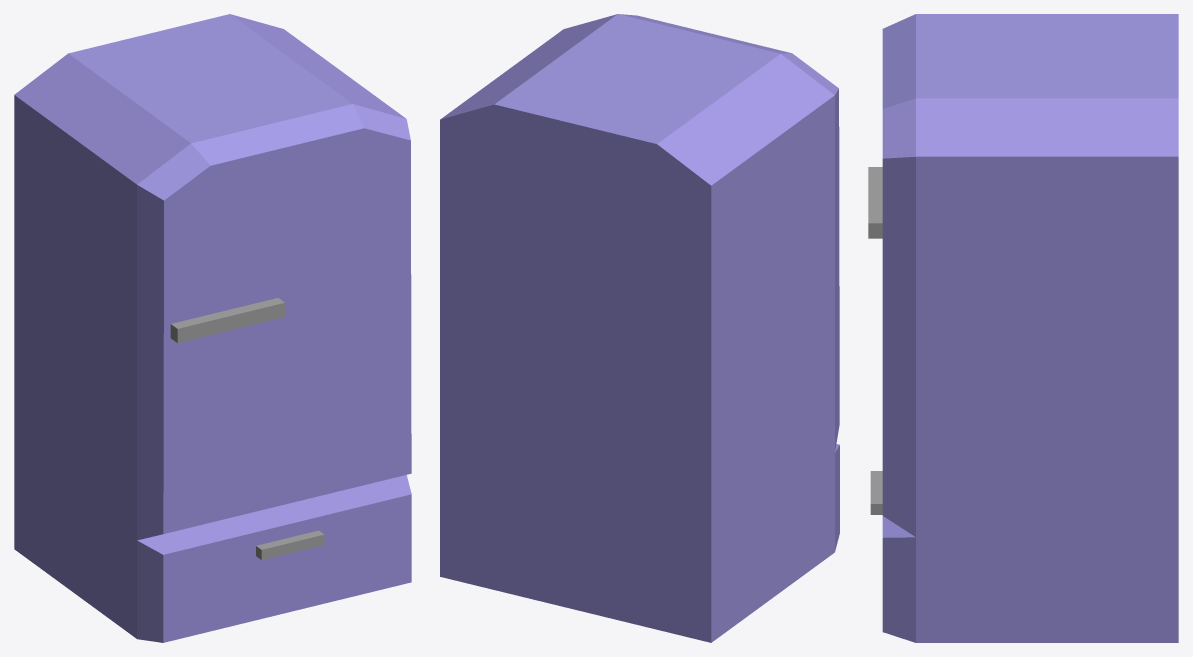
File: Fridge.fbx
3 views of the same model, side by side, from view 1: azimuth 30°, elevation 25°; view 2: azimuth 150°, elevation 25°; view 3: azimuth 270°, elevation 25° (orthographic). The views are drawn at different scales.
Parts seen in each view (by area): view 1: Cube.013, Cube.012; view 2: Cube.013, Cube.012; view 3: Cube.013, Cube.012.
Part boxes in pixels (x1,y1,x2,y2): Cube.013: (14, 14, 411, 642); Cube.012: (137, 104, 411, 540); Cube.013: (440, 14, 839, 642); Cube.012: (619, 14, 839, 451); Cube.013: (870, 14, 1178, 642); Cube.012: (868, 14, 915, 536).
Size of the model in its own units: 112 by 192 by 104.
